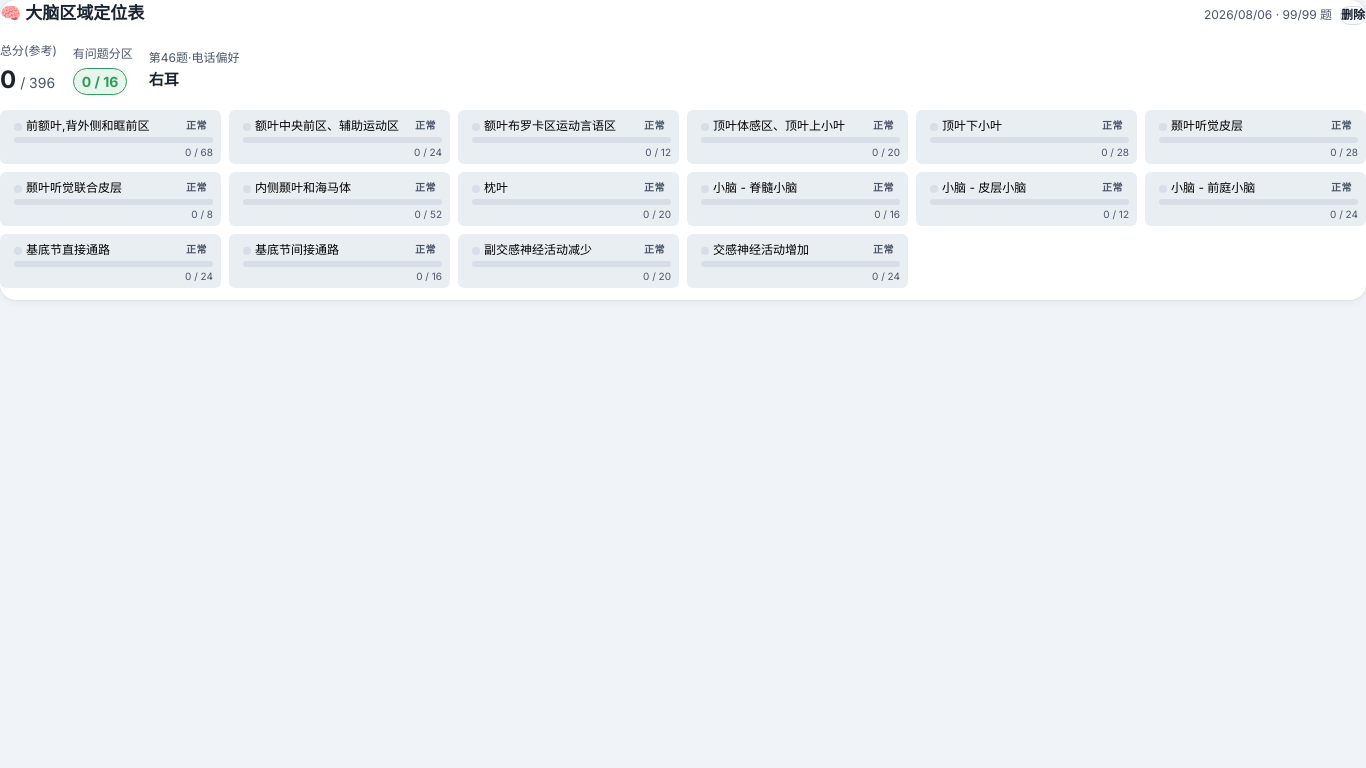
Test case: BrainRegionResult — 分区条点击交互 › 第 46 题弹层(听觉皮层):展示电话偏好侧,不读 items[46]
Click the button with test id "brain-region-bar-auditoryCortex": (1256, 137) [1145, 110, 1365, 164]
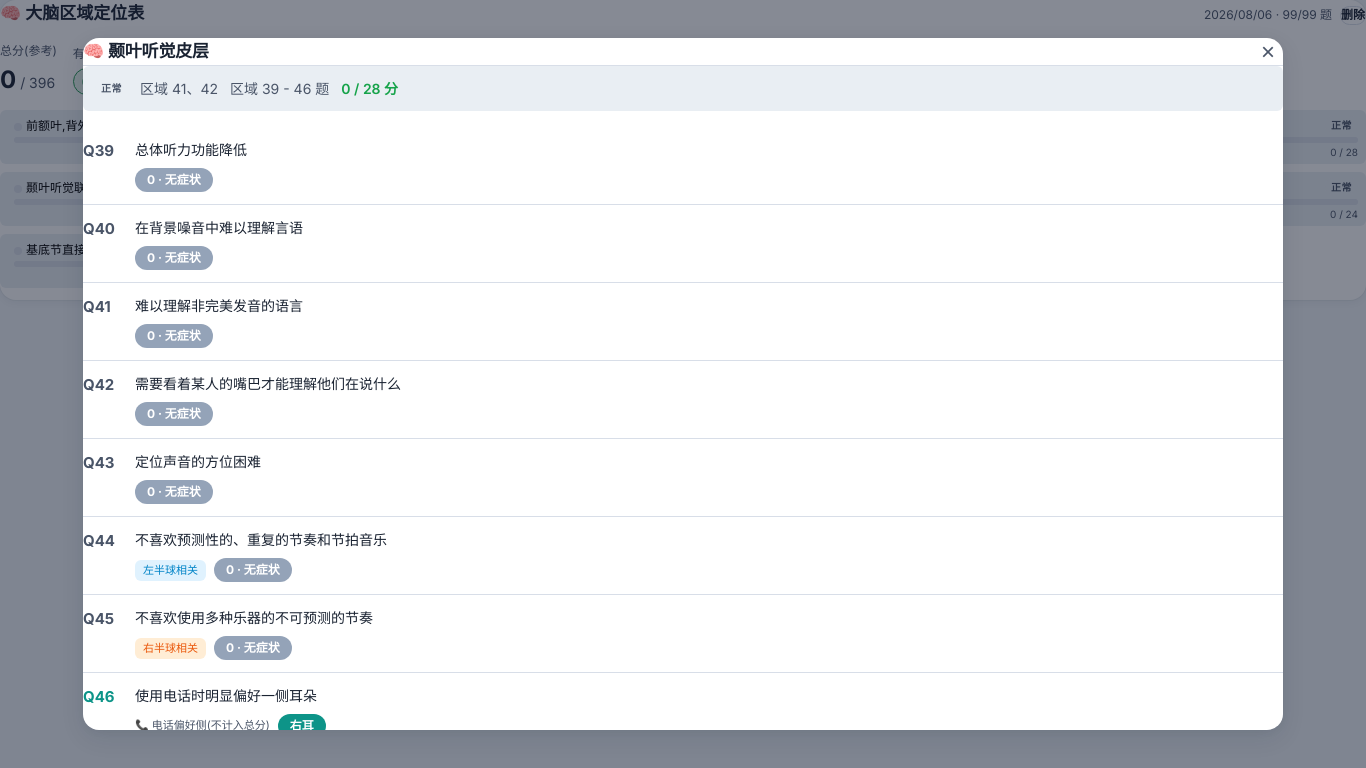
expect the list item with test id "brain-region-detail-item-46" shows "电话偏好侧": met, box [135, 718, 270, 730]
expect the text with test id "brain-region-detail-score-46" reads "右耳": met, box [290, 718, 314, 730]
